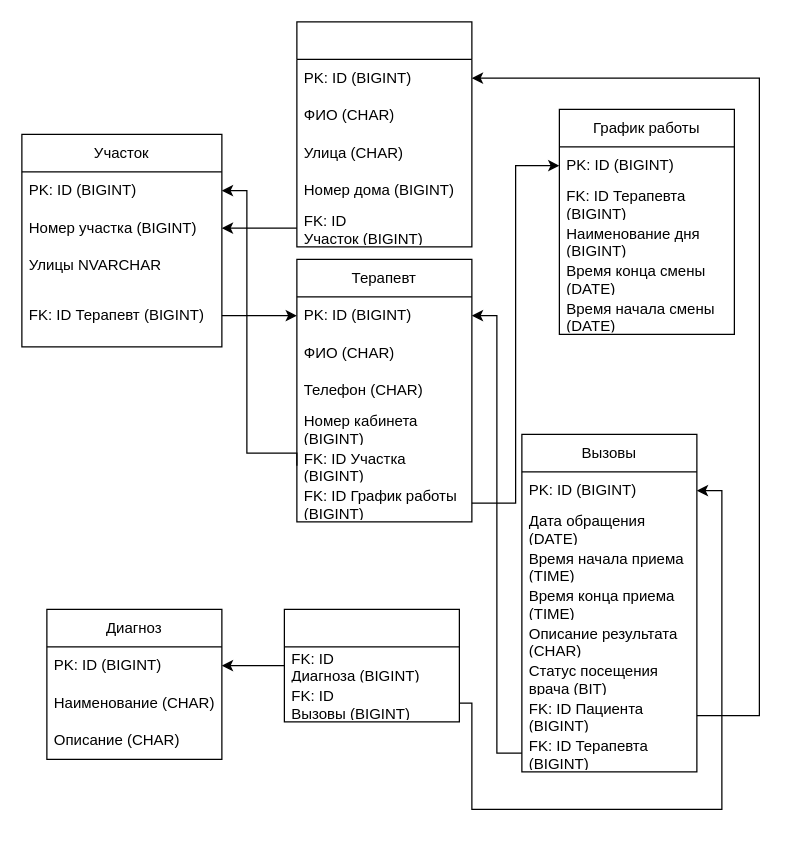
The diagram is 791 pixels wide and 841 high, and some of its shapes have lost their labels. Here are the shapes that lost their labels. From the top down, the box of each, then its label:
(296, 21, 472, 247): Пациент
(283, 608, 459, 722): Вызов-диагноз
